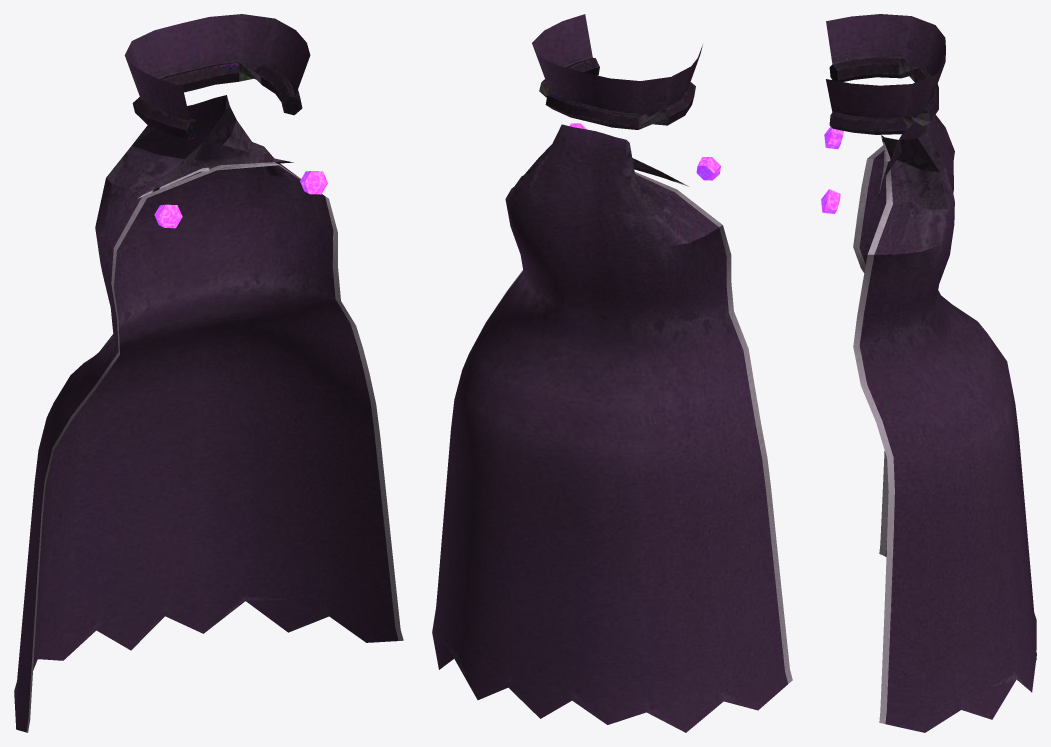
Rendered from Capa_Sombria_nivel100.glb.
3 views of the same model, side by side, from view 1: azimuth 30°, elevation 25°; view 2: azimuth 150°, elevation 25°; view 3: azimuth 270°, elevation 25° (orthographic). The views are drawn at different scales.
Parts seen in each view (by area): view 1: capa_sombria_nivel100; view 2: capa_sombria_nivel100; view 3: capa_sombria_nivel100.
Boxes of the visible parts, bbox=[...] form: capa_sombria_nivel100: bbox=[14, 14, 403, 732]; capa_sombria_nivel100: bbox=[432, 14, 792, 732]; capa_sombria_nivel100: bbox=[821, 14, 1036, 732].
Bounding box in the file's own units: 0.7074 × 1.19 × 0.3806.
Materials: 1 (1 with a texture image).
